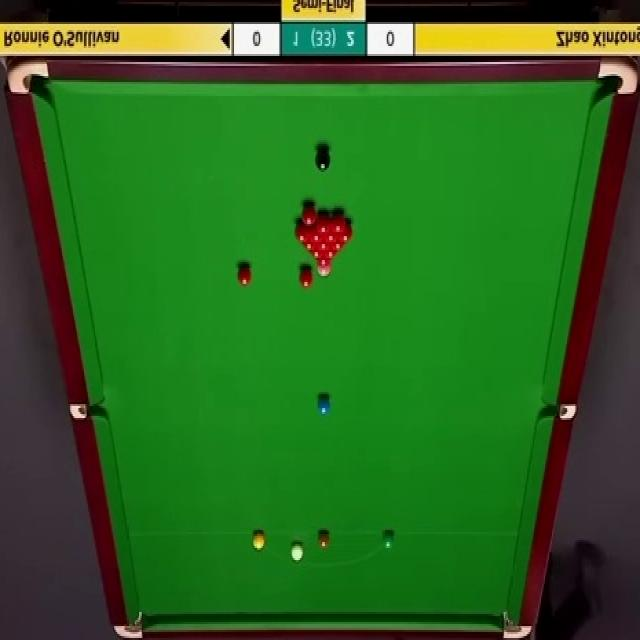black-ball: (315, 147, 331, 173)
blue-ball: (317, 398, 330, 416)
brown-ball: (317, 531, 330, 548)
green-ball: (382, 528, 396, 552)
pink-ball: (317, 260, 332, 277)
red-ball: (332, 207, 346, 236), (294, 221, 310, 245), (299, 265, 314, 289), (238, 262, 252, 287), (316, 214, 331, 235), (301, 204, 316, 224), (338, 222, 353, 242), (310, 224, 324, 242), (316, 236, 332, 251), (324, 246, 337, 262), (301, 238, 315, 252), (310, 246, 323, 261), (325, 229, 339, 241), (332, 240, 346, 250)
white-ball: (290, 540, 302, 562)
yellow-ball: (252, 530, 266, 551)
